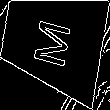M_W: (30, 14, 76, 70)
